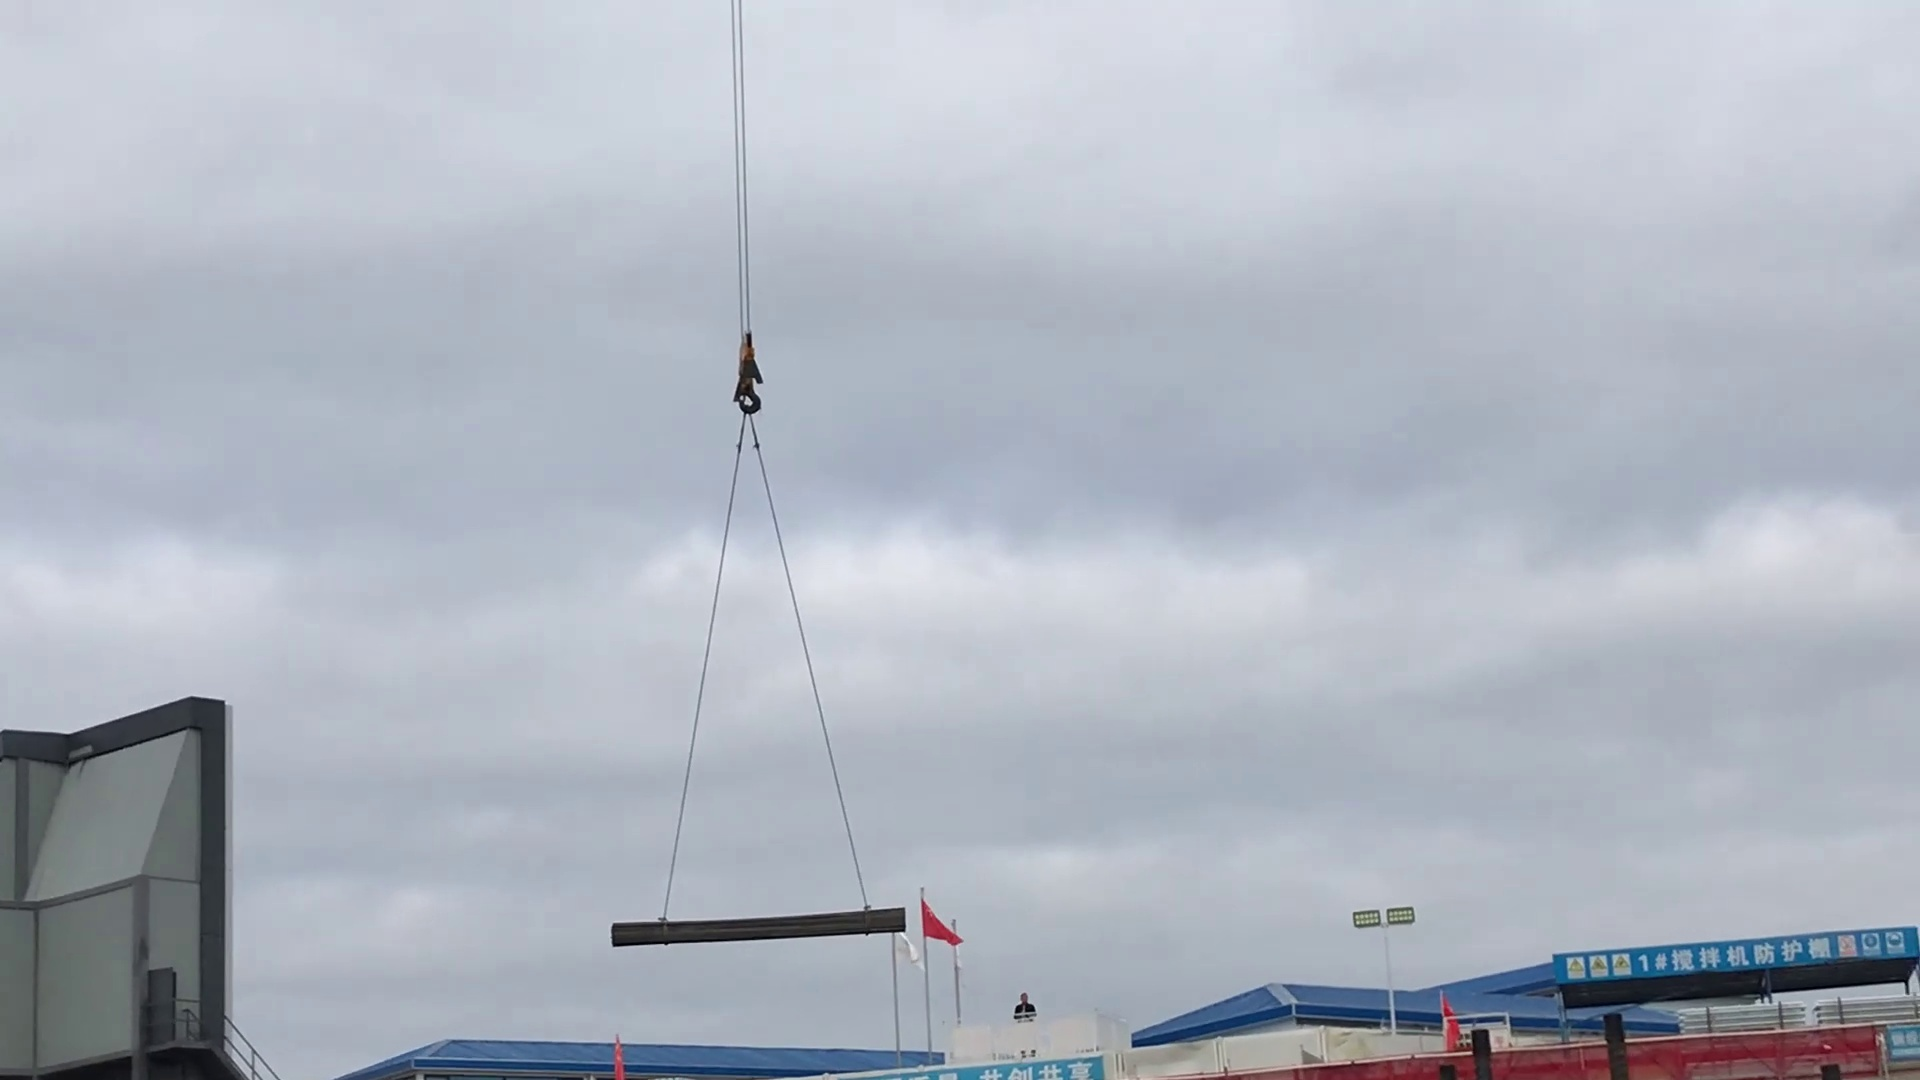fence: (1191, 1017, 1886, 1080)
hook: (719, 324, 775, 429)
rebar: (603, 895, 913, 971)
slogan: (876, 1050, 1110, 1080)
